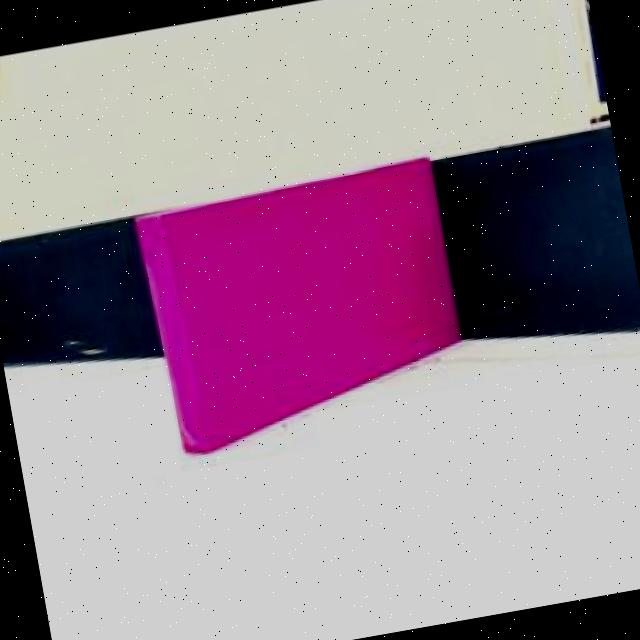xparking: (137, 163, 469, 424)
